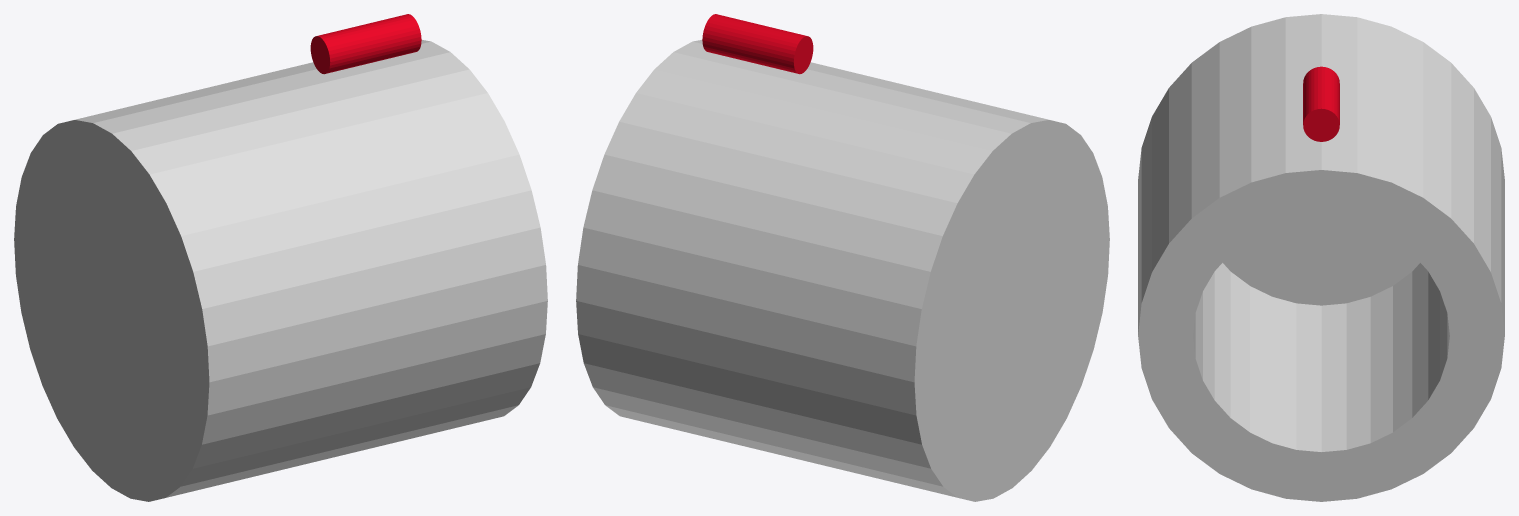
File: aircanon_withgunfire_rotate.glb
3 renders of one model, left to right at view 1: azimuth 30°, elevation 25°; view 2: azimuth 150°, elevation 25°; view 3: azimuth 270°, elevation 25°, orthographic. The views are drawn at different scales.
Visible parts, largest first — view 1: Cylinder.001, Cylinder; view 2: Cylinder.001, Cylinder; view 3: Cylinder.001, Cylinder.
Boxes of the visible parts, x1,y1,x2,y2 form: Cylinder.001: (14,40,547,501); Cylinder: (310,14,421,74); Cylinder.001: (576,40,1109,501); Cylinder: (702,14,813,74); Cylinder.001: (1138,14,1504,501); Cylinder: (1303,66,1339,141).
Size of what is drawn, in the model's own units: 2.01 by 2.26 by 2.
